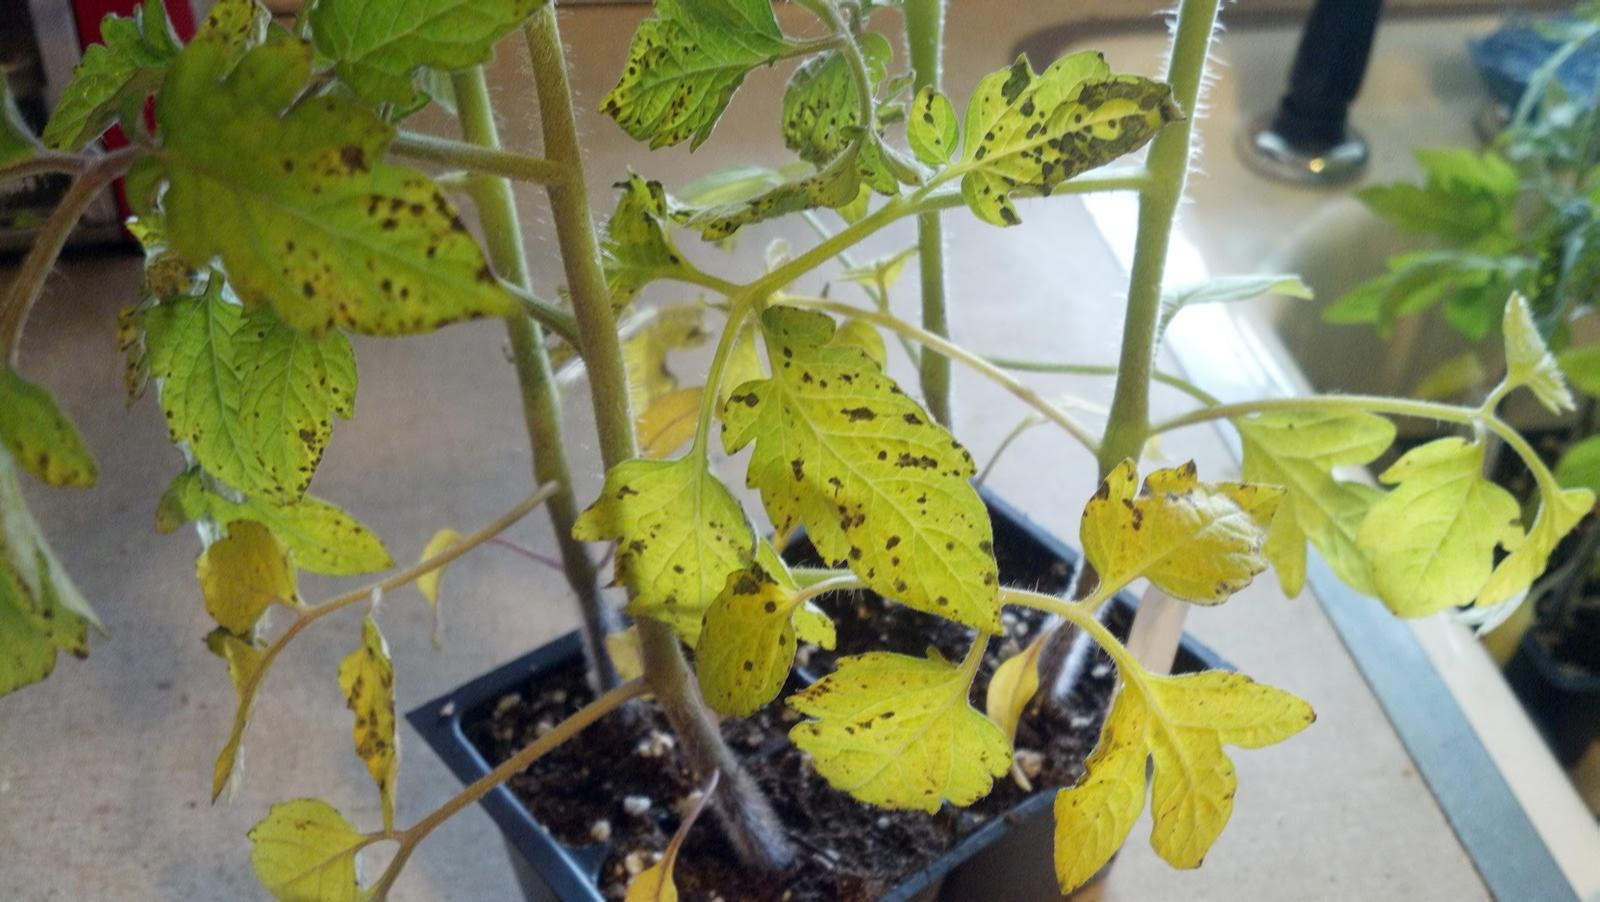Tomato Septoria leaf spot: (127, 38, 531, 343), (735, 299, 1021, 655), (69, 270, 389, 512), (949, 34, 1188, 240), (780, 628, 1021, 817), (549, 439, 764, 645), (587, 9, 814, 140)
